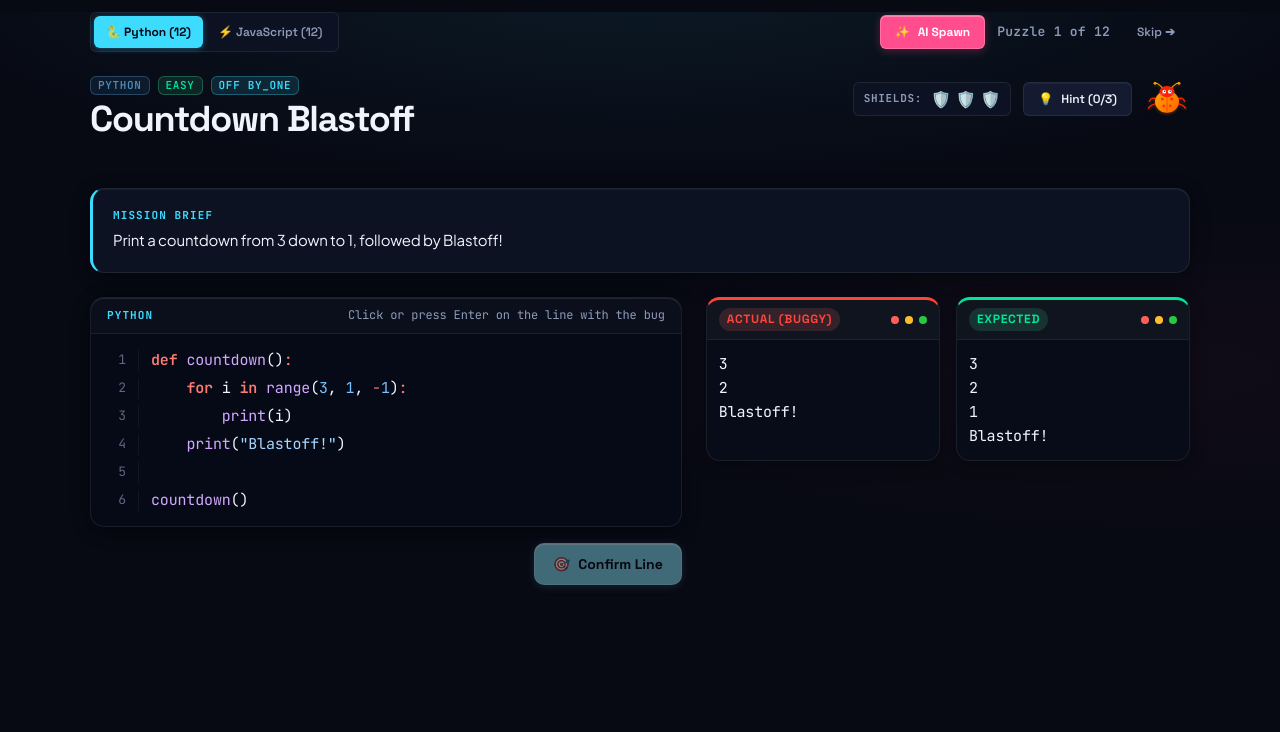
Scenario: Arena Gameplay End-to-End Loop (Bricks 5 & 6) › reduces shields when an incorrect line is chosen
Click the button with aria-label "Line 1:".
click(198, 360)  # box top-left (103, 350), bottom-right (292, 371)
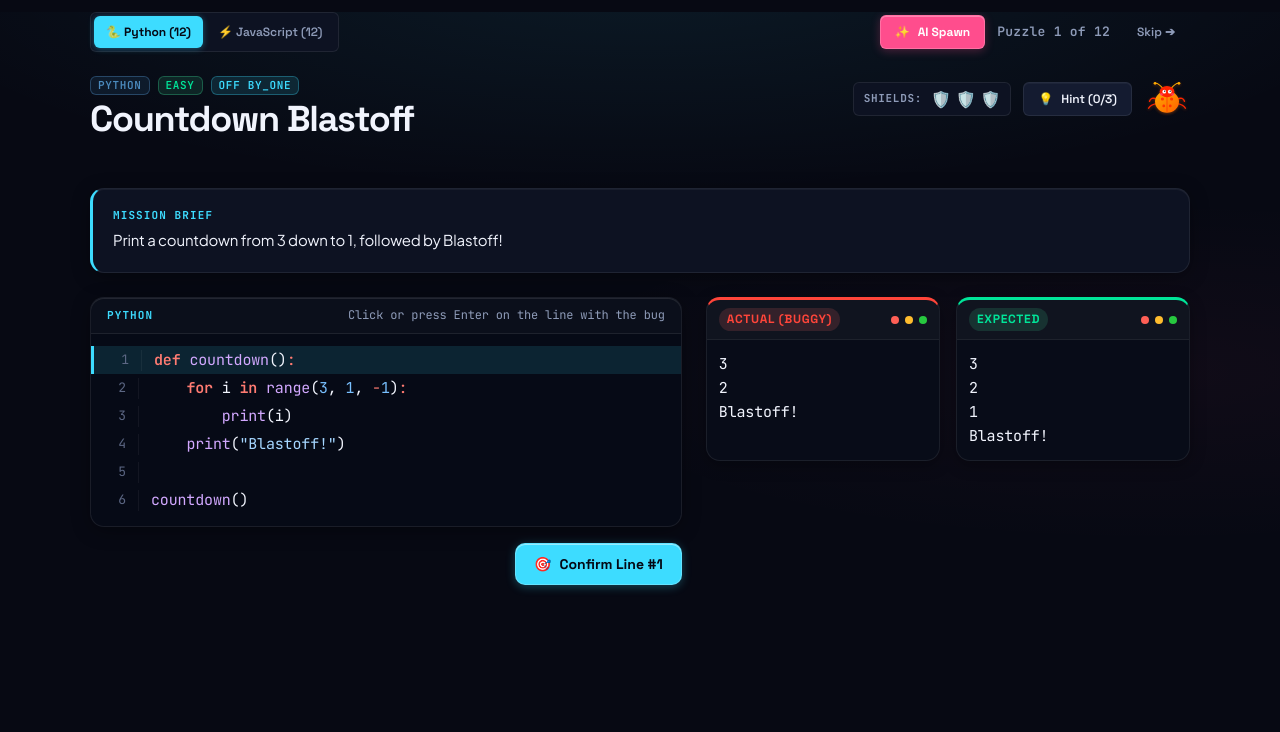
Click the button "🎯 Confirm Line #1".
click(598, 564)  # box top-left (515, 543), bottom-right (682, 585)
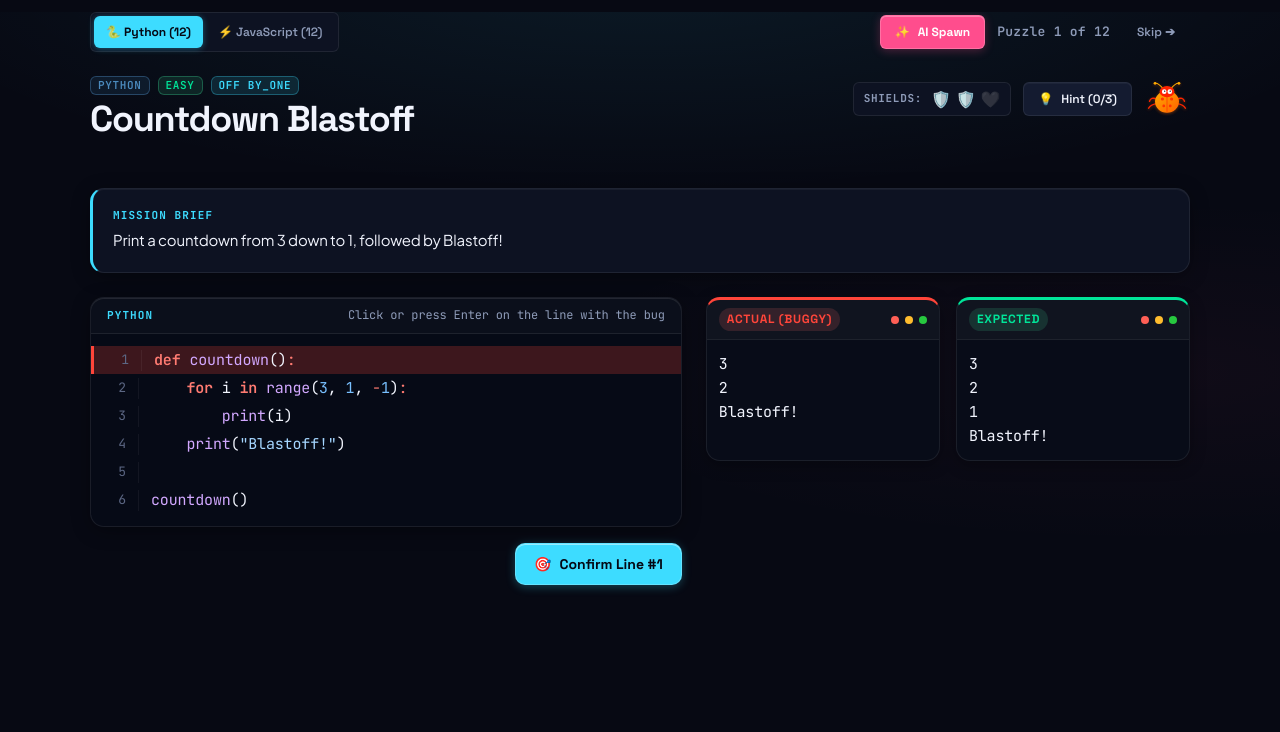
Expected: the element named "2 out of 3 shields remaining" is shown, top-left (853, 82), bottom-right (1011, 116)
